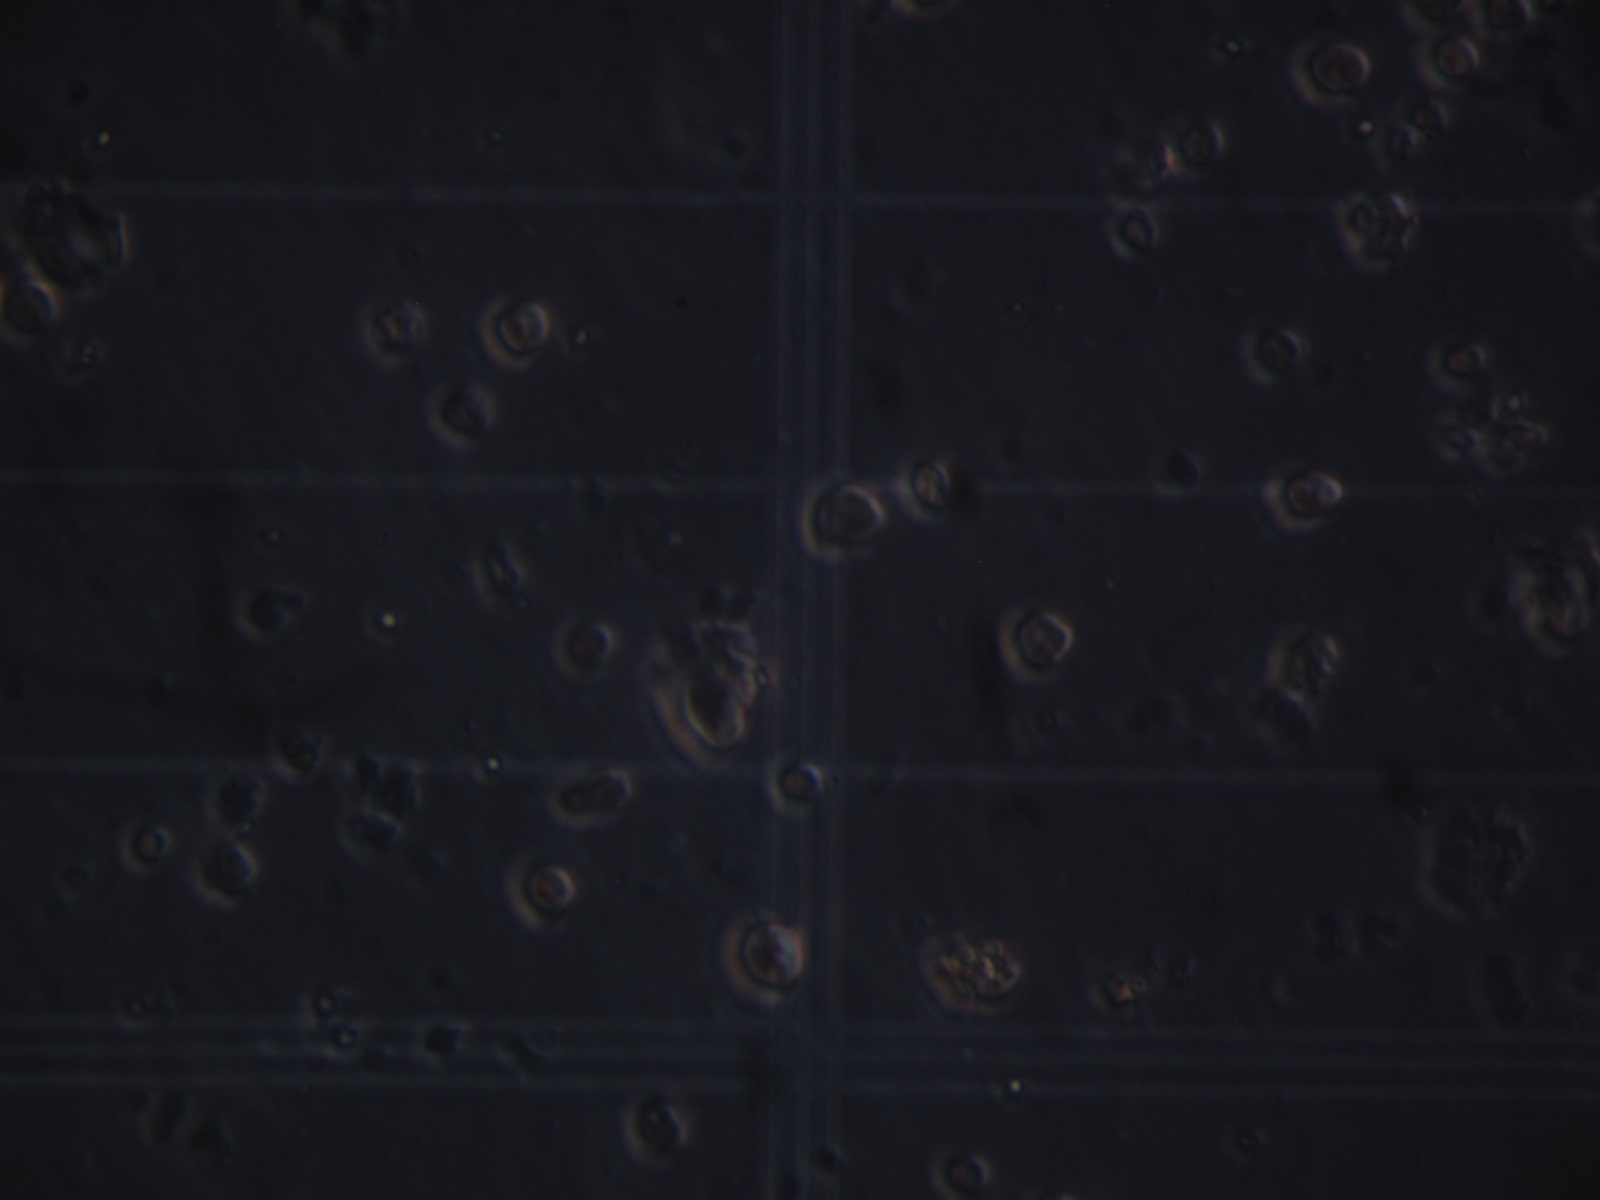hemo: (918, 929, 1024, 1013), (721, 908, 805, 1007), (795, 469, 884, 562), (1000, 603, 1076, 686), (477, 289, 551, 371), (427, 372, 499, 454), (1266, 463, 1347, 534), (1267, 620, 1338, 702), (343, 749, 425, 819), (552, 763, 636, 831), (506, 855, 576, 937), (1293, 37, 1376, 105), (620, 1089, 690, 1167), (551, 614, 626, 682), (189, 836, 260, 908), (766, 747, 831, 821), (1240, 315, 1304, 389), (362, 292, 430, 362), (1, 275, 62, 352), (896, 451, 955, 524), (1424, 29, 1489, 92), (336, 809, 404, 870), (204, 763, 263, 829), (1425, 337, 1489, 395), (926, 1150, 997, 1200), (222, 589, 292, 638), (1106, 202, 1162, 261), (120, 816, 176, 872), (270, 724, 324, 783), (1178, 113, 1225, 173), (1335, 194, 1385, 246)
